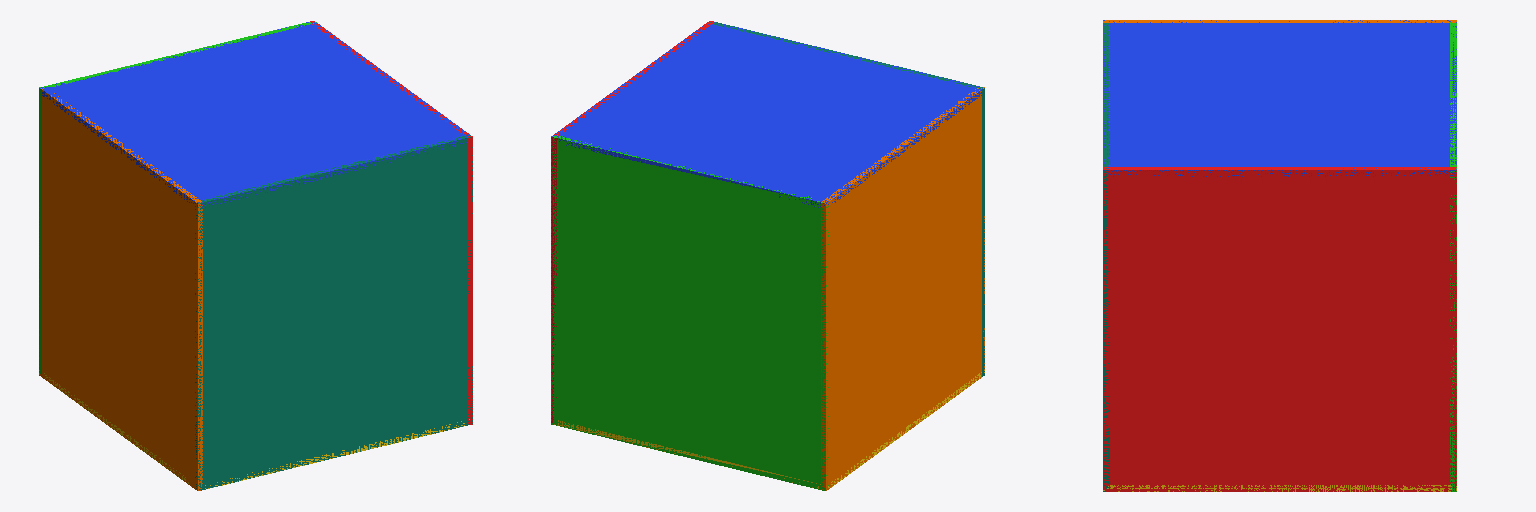
robot.urdf — cuboid:
<?xml version="1.0"?>
<robot name="cuboid">

  <link name="cuboid">
    <visual>
      <origin xyz="0.0245 0 0" rpy="0 0 0"/>
      <geometry>
        <box size="0.001 0.05 0.05"/>
      </geometry>
      <material name="face_px">
        <color rgba="1.0 0.15 0.15 1.0"/>
      </material>
    </visual>
    <visual>
      <origin xyz="-0.0245 0 0" rpy="0 0 0"/>
      <geometry>
        <box size="0.001 0.05 0.05"/>
      </geometry>
      <material name="face_nx">
        <color rgba="1.0 0.5 0.0 1.0"/>
      </material>
    </visual>
    <visual>
      <origin xyz="0 0.0245 0" rpy="0 0 0"/>
      <geometry>
        <box size="0.05 0.001 0.05"/>
      </geometry>
      <material name="face_py">
        <color rgba="0.15 0.85 0.15 1.0"/>
      </material>
    </visual>
    <visual>
      <origin xyz="0 -0.0245 0" rpy="0 0 0"/>
      <geometry>
        <box size="0.05 0.001 0.05"/>
      </geometry>
      <material name="face_ny">
        <color rgba="0.1 0.55 0.45 1.0"/>
      </material>
    </visual>
    <visual>
      <origin xyz="0 0 0.0245" rpy="0 0 0"/>
      <geometry>
        <box size="0.05 0.05 0.001"/>
      </geometry>
      <material name="face_pz">
        <color rgba="0.2 0.35 1.0 1.0"/>
      </material>
    </visual>
    <visual>
      <origin xyz="0 0 -0.0245" rpy="0 0 0"/>
      <geometry>
        <box size="0.05 0.05 0.001"/>
      </geometry>
      <material name="face_nz">
        <color rgba="1.0 0.85 0.1 1.0"/>
      </material>
    </visual>
    <collision>
      <origin xyz="0 0 0" rpy="0 0 0"/>
      <geometry>
        <box size="0.05 0.05 0.05"/>
      </geometry>
    </collision>

    <inertial>
      <density value="400"/>
    </inertial>
  </link>

</robot>

--- Facts derived from the render (not from the file) ---
The picture shows the robot from 3 angles, left to right: view 1: azimuth 30°, elevation 25°; view 2: azimuth 150°, elevation 25°; view 3: azimuth 270°, elevation 25°; orthographic projection.
Robot: cuboid — 1 links, 0 joints (none); root link cuboid; default pose: every joint at zero.
Links seen in each view (by area): view 1: cuboid; view 2: cuboid; view 3: cuboid.
Boxes of the visible links, left/top/right/bottom form: cuboid: left=39, top=21, right=472, bottom=490; cuboid: left=551, top=21, right=984, bottom=490; cuboid: left=1103, top=20, right=1456, bottom=491.
Bounding box of the posed robot: 0.05 × 0.05 × 0.05 m (x, y, z).
Geometry: primitives only (box / cylinder / sphere), no mesh files.
